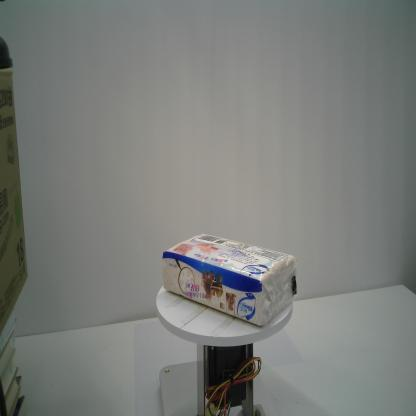Tissue: (161, 231, 299, 329)
